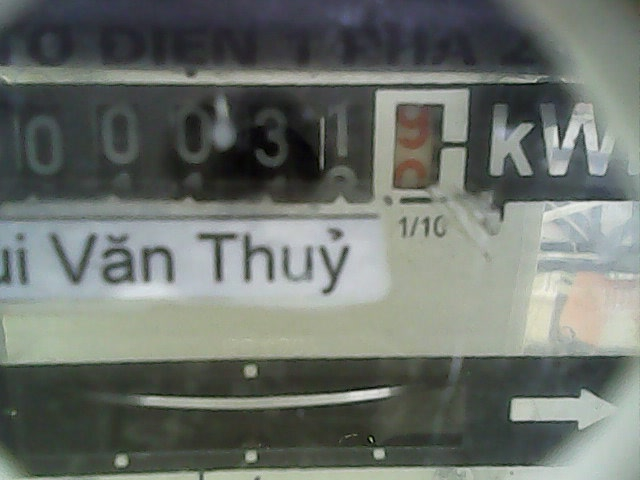phy_plate: (6, 81, 476, 209)
